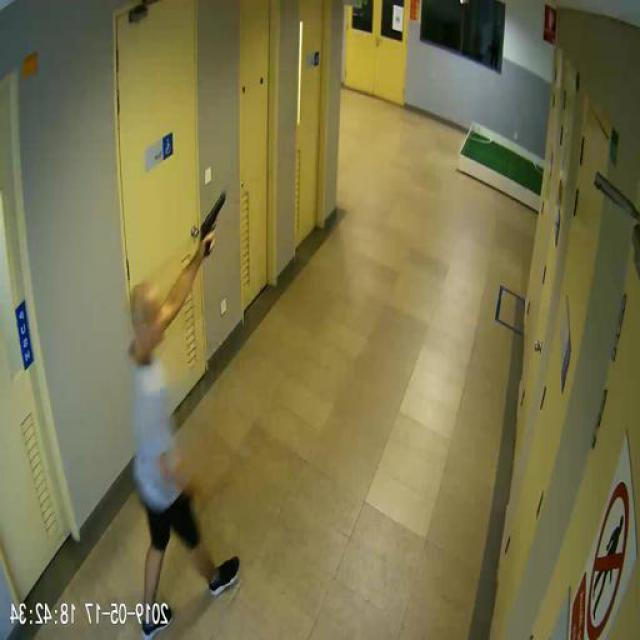Gun: (202, 190, 228, 258)
